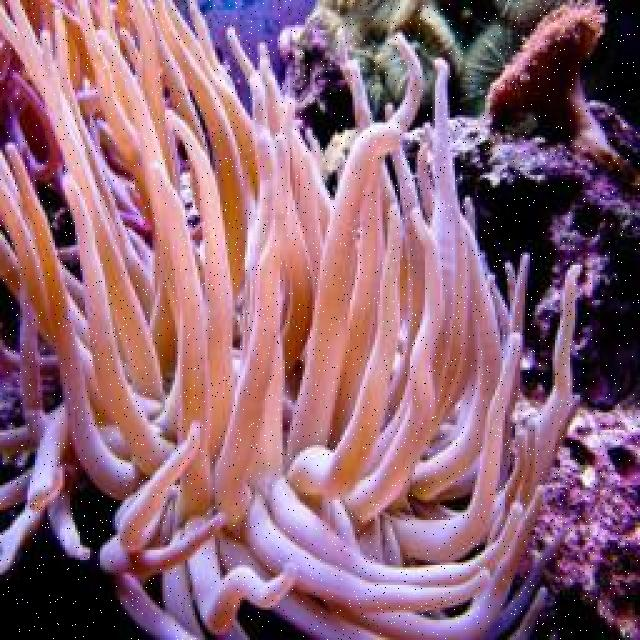reefs: (0, 0, 586, 638), (485, 99, 638, 351), (521, 403, 638, 637), (278, 0, 463, 128), (485, 1, 624, 165), (467, 2, 575, 108)
